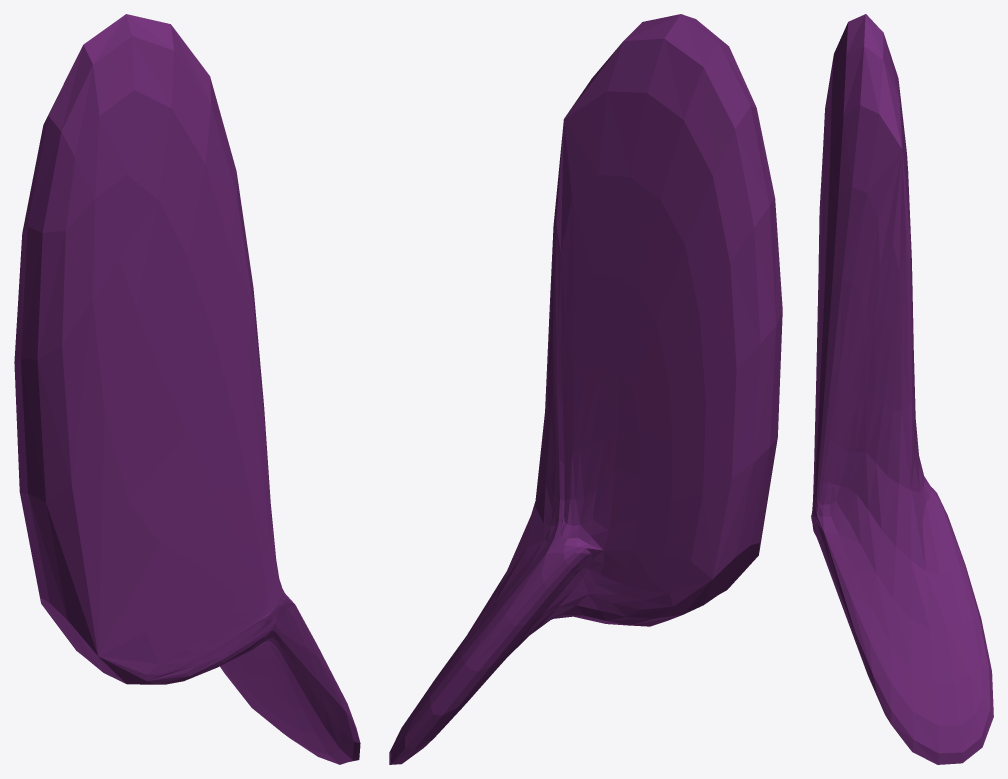
3 renders of one model, left to right at view 1: azimuth 30°, elevation 25°; view 2: azimuth 150°, elevation 25°; view 3: azimuth 270°, elevation 25°, orthographic. The views are drawn at different scales.
Visible parts, largest first — view 1: 421_Cube.1711; view 2: 421_Cube.1711; view 3: 421_Cube.1711.
Part boxes in pixels (x1,y1,x2,y2): 421_Cube.1711: (14,14,360,764); 421_Cube.1711: (389,14,782,764); 421_Cube.1711: (811,14,993,764).
Size of the model in its own units: 6.58 by 14.37 by 3.65.
